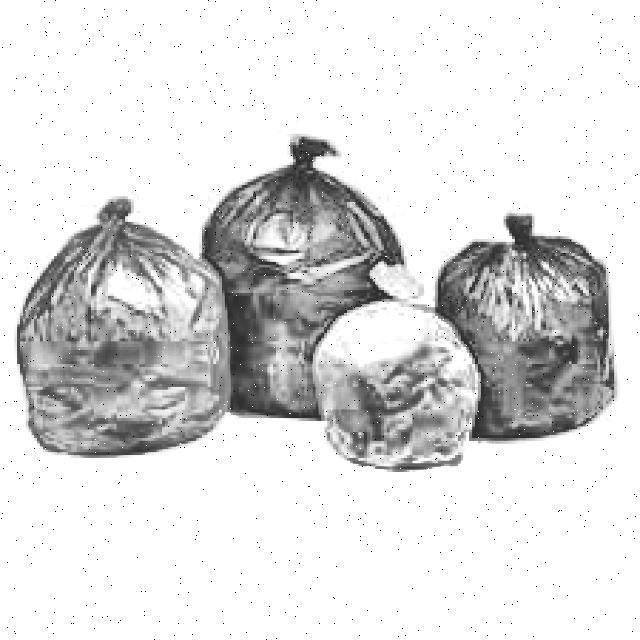Trashbag: (25, 217, 228, 467), (210, 169, 398, 426), (436, 238, 617, 440)
